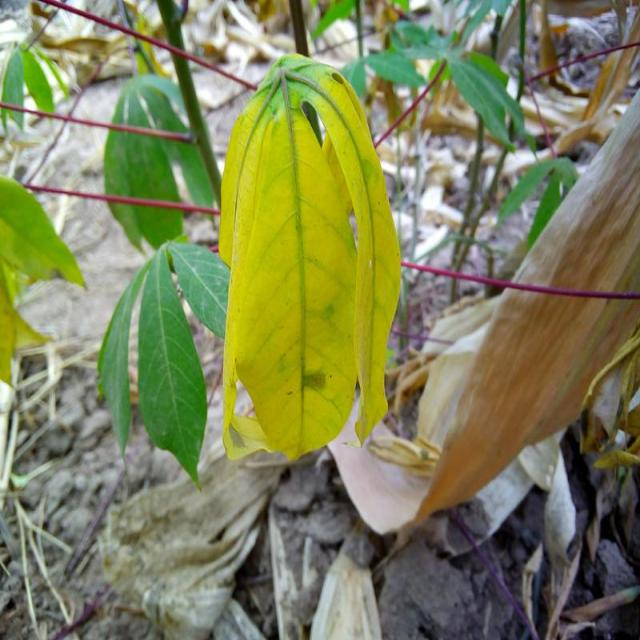cassava leaf: (216, 51, 402, 463)
